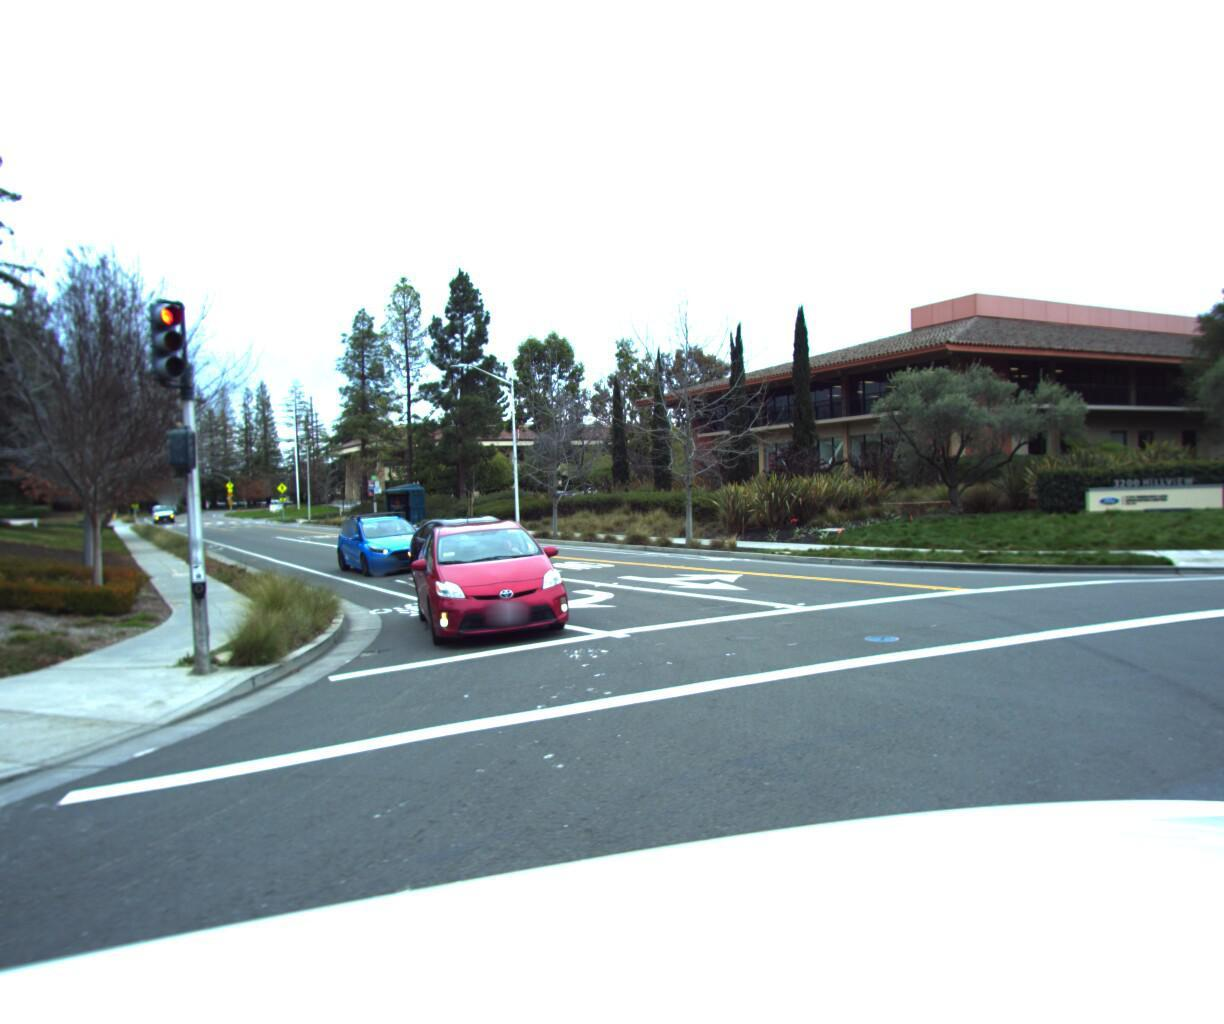car: (405, 516, 579, 657), (397, 507, 557, 597), (334, 509, 445, 579)
